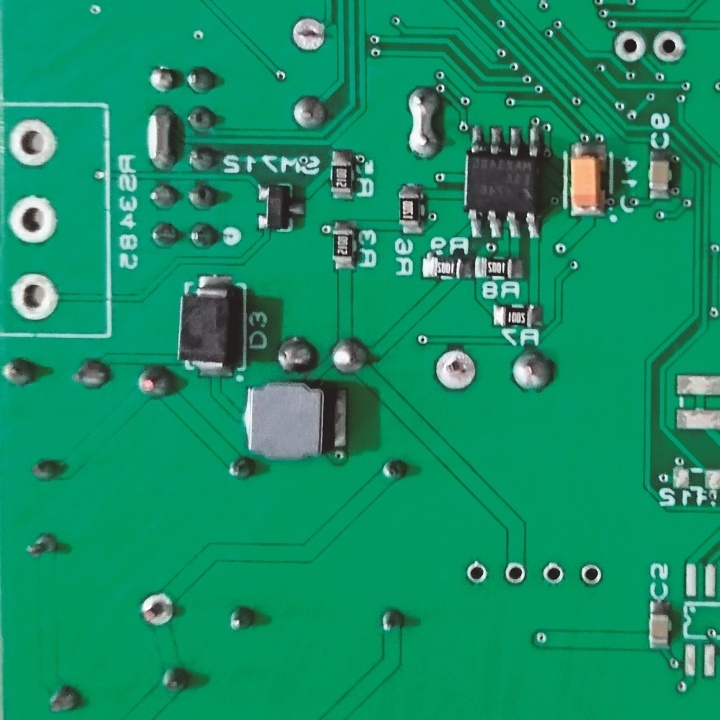F: (5, 192, 62, 251), (6, 116, 61, 171), (10, 269, 59, 323), (433, 345, 481, 396), (285, 14, 330, 58), (137, 592, 179, 631), (607, 28, 650, 66), (650, 26, 690, 66), (499, 559, 531, 589), (540, 558, 568, 591), (464, 560, 493, 589), (580, 560, 603, 591)
P: (404, 83, 446, 163), (140, 100, 180, 174)
